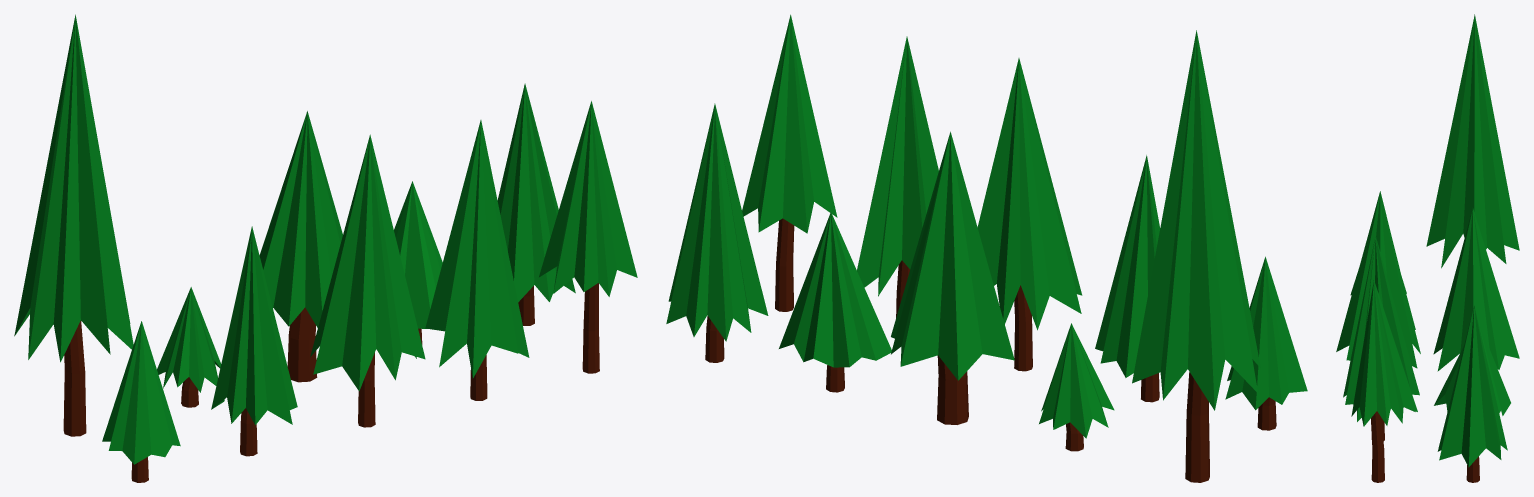
File: tree.glb
The picture shows the model from 3 angles, left to right: view 1: azimuth 30°, elevation 25°; view 2: azimuth 150°, elevation 25°; view 3: azimuth 270°, elevation 25°; orthographic projection. The views are drawn at different scales.
Visible parts, largest first — view 1: tree.004, tree, tree.001, tree.005, tree.008, tree.007, tree.006, tree.009, tree.002, tree.003; view 2: tree.004, tree.005, tree, tree.006, tree.008, tree.001, tree.003, tree.007, tree.009, tree.002; view 3: tree.004, tree.005, tree.006, tree.008, tree, tree.001, tree.003.
Boxes of the visible parts, <box> form: tree.004: <box>14,14,133,436</box>; tree: <box>310,134,425,427</box>; tree.001: <box>425,120,529,400</box>; tree.005: <box>259,111,342,382</box>; tree.008: <box>539,101,637,373</box>; tree.007: <box>211,226,297,456</box>; tree.006: <box>497,83,575,325</box>; tree.009: <box>102,321,180,482</box>; tree.002: <box>157,287,221,407</box>; tree.003: <box>394,181,442,344</box>; tree.004: <box>1132,30,1260,482</box>; tree.005: <box>891,131,1014,424</box>; tree: <box>977,58,1082,371</box>; tree.006: <box>666,103,768,362</box>; tree.008: <box>742,14,837,311</box>; tree.001: <box>857,36,938,317</box>; tree.003: <box>779,212,891,392</box>; tree.007: <box>1095,155,1160,402</box>; tree.009: <box>1225,256,1307,430</box>; tree.002: <box>1039,323,1114,451</box>; tree.004: <box>1426,14,1519,268</box>; tree.005: <box>1433,208,1519,371</box>; tree.006: <box>1437,305,1507,482</box>; tree.008: <box>1351,280,1417,482</box>; tree: <box>1336,191,1420,368</box>; tree.001: <box>1343,236,1419,440</box>; tree.003: <box>1434,319,1510,415</box>.
Bounding box in the file's own units: 24.4 × 17.75 × 9.68.
